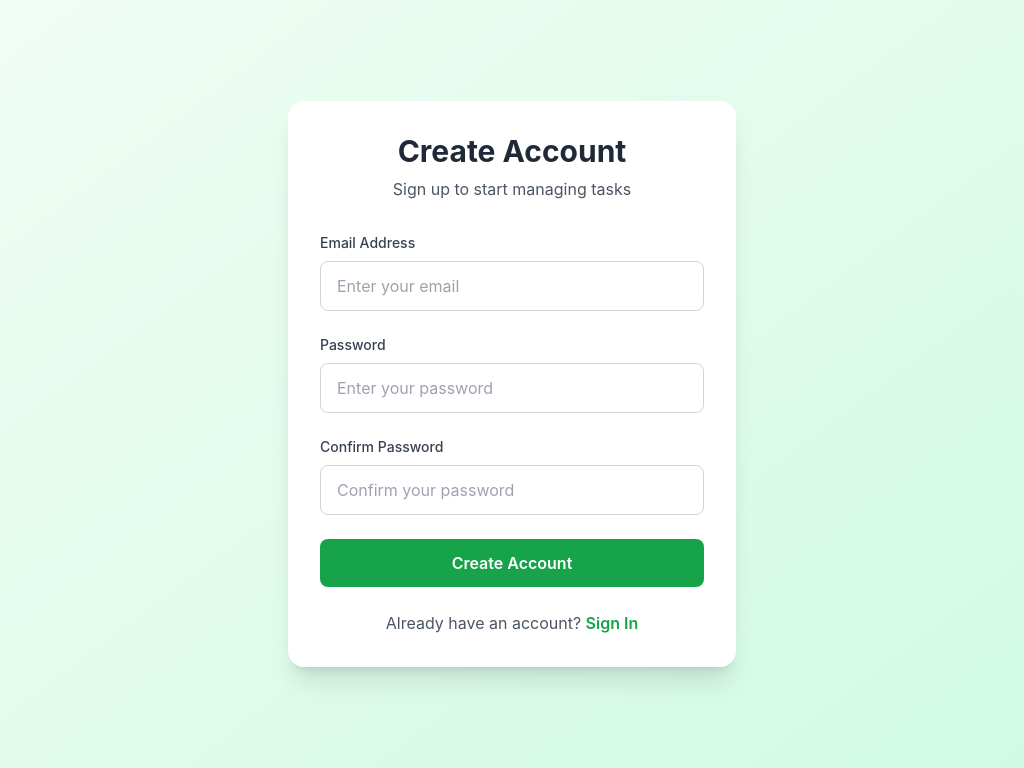
Test: Register Component › displays error when passwords do not match
Type "test@example.com" into the field with test id "email-input" at (512, 286), box 320,261 -> 704,311
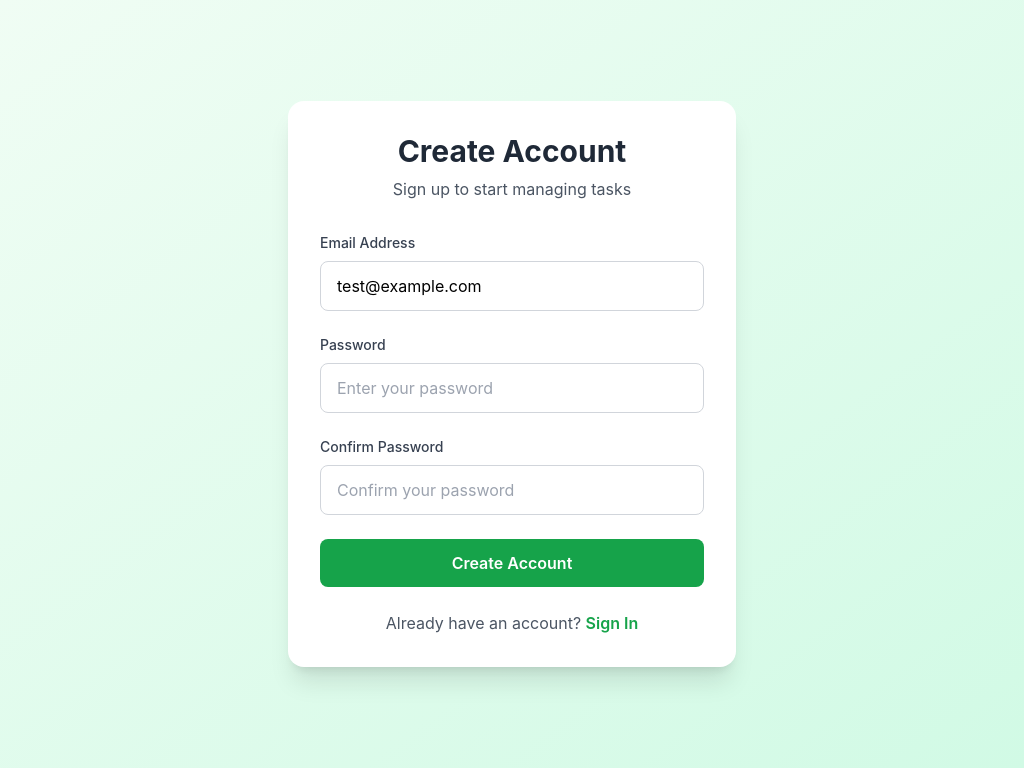
Type "password123" into the password field with test id "password-input" at (512, 388), box 320,363 -> 704,413
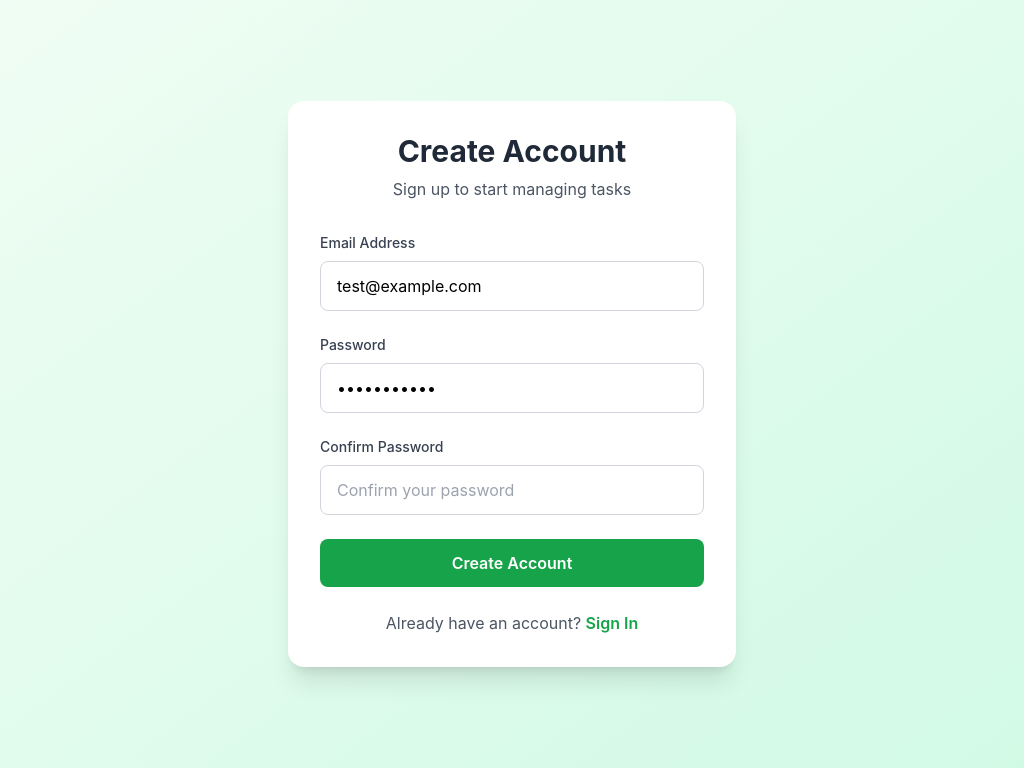
Type "password456" into the password field with test id "confirm-password-input" at (512, 490), box 320,465 -> 704,515
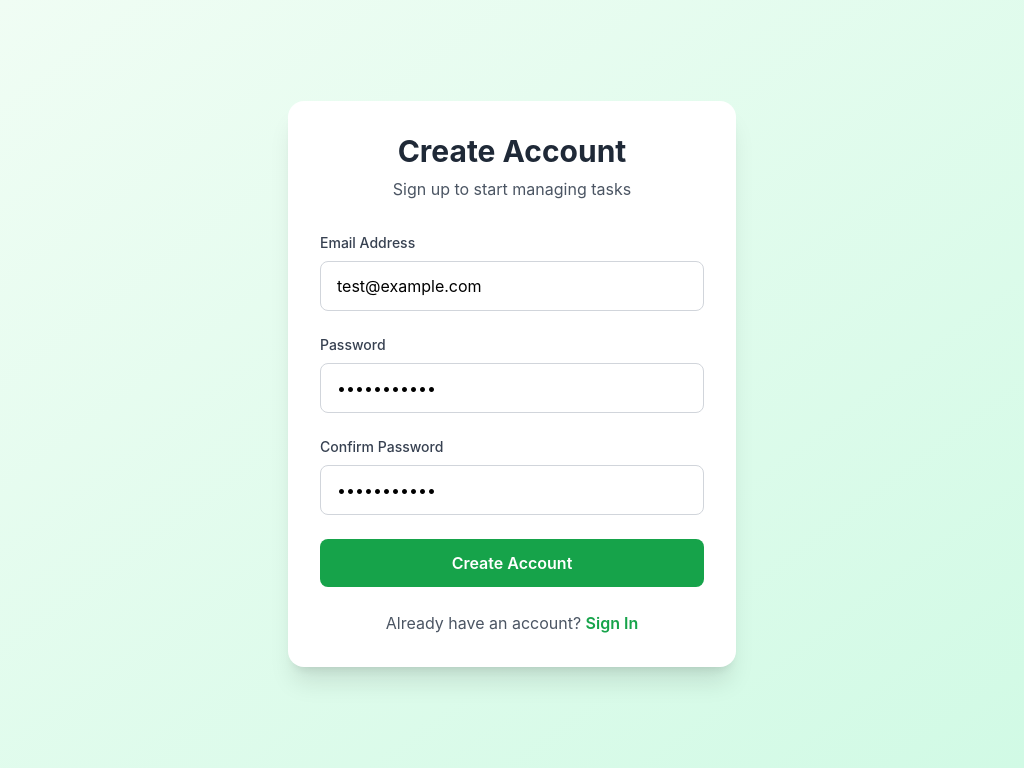
Click the button with test id "register-button" at (512, 563), box 320,539 -> 704,587
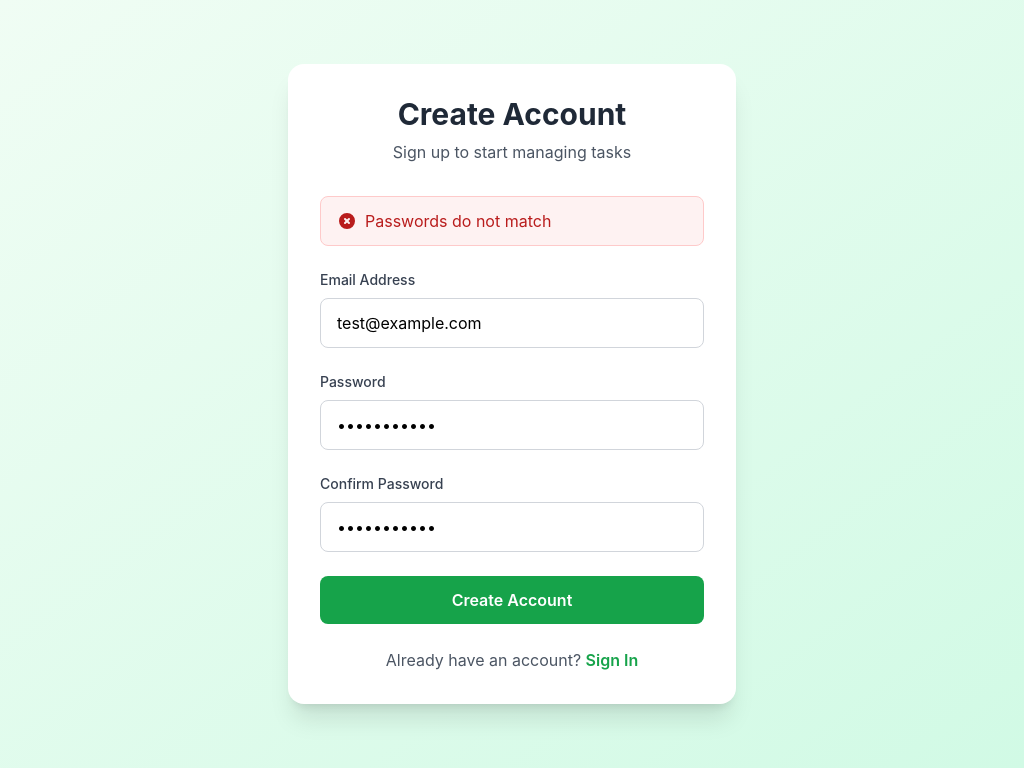
Now the text "Passwords do not match" is shown, box 365,209 -> 551,233
